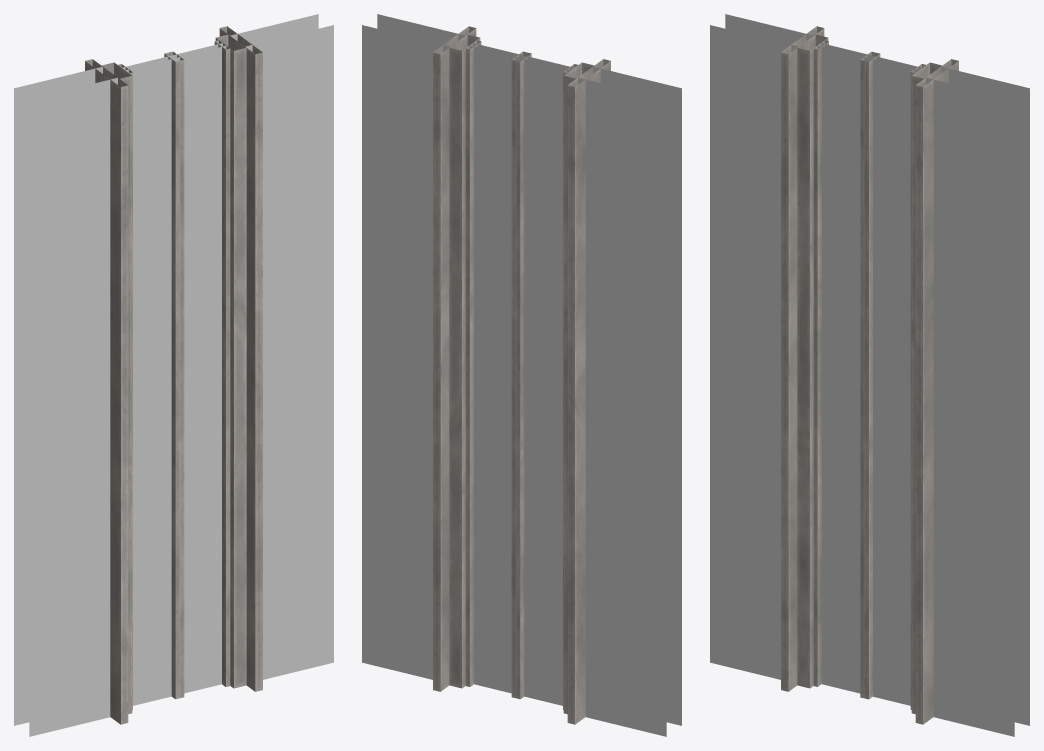
Rendered from Wall_Window_A_D.fbx.
3 renders of one model, left to right at view 1: azimuth 30°, elevation 25°; view 2: azimuth 150°, elevation 25°; view 3: azimuth 330°, elevation 25°, orthographic.
Visible parts, largest first — view 1: Wall_Window_A_D; view 2: Wall_Window_A_D; view 3: Wall_Window_A_D.
Boxes of the visible parts, bbox=[...] form: Wall_Window_A_D: bbox=[14, 14, 333, 736]; Wall_Window_A_D: bbox=[362, 14, 681, 736]; Wall_Window_A_D: bbox=[710, 14, 1029, 736].
Bounding box in the file's own units: 3 × 0.6115 × 6.
